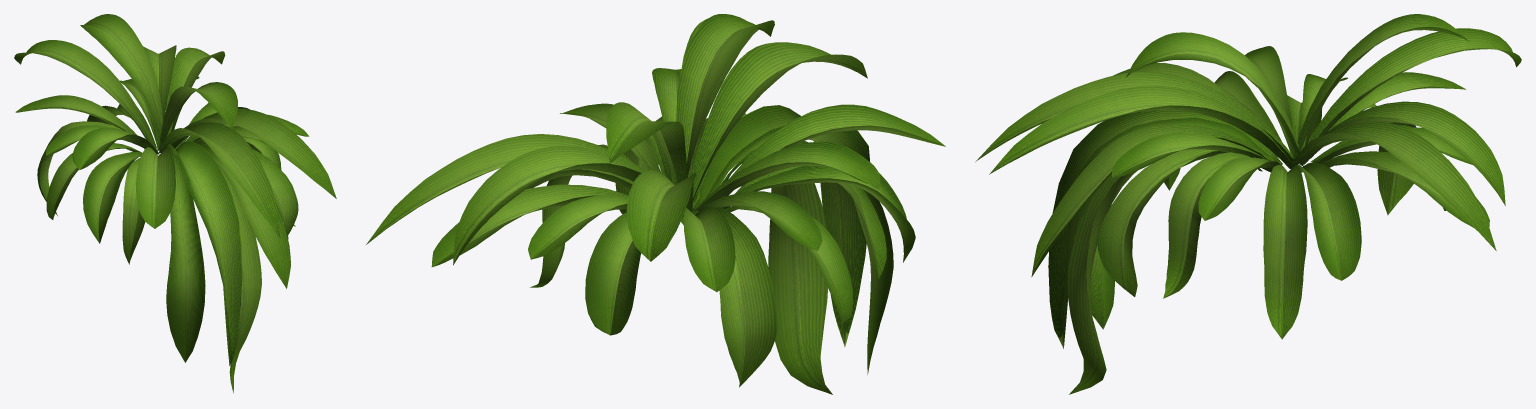
File: Plant_J.fbx
3 renders of one model, left to right at view 1: azimuth 30°, elevation 25°; view 2: azimuth 150°, elevation 25°; view 3: azimuth 270°, elevation 25°, orthographic. The views are drawn at different scales.
Parts seen in each view (by area): view 1: Plant_JJJ1, Plant_JJJ2; view 2: Plant_JJJ1, Plant_JJJ2; view 3: Plant_JJJ1, Plant_JJJ2.
Boxes of the visible parts, <box> form: Plant_JJJ1: <box>14,14,336,288</box>; Plant_JJJ2: <box>166,141,261,393</box>; Plant_JJJ1: <box>366,14,945,387</box>; Plant_JJJ2: <box>693,105,893,394</box>; Plant_JJJ1: <box>975,14,1521,339</box>; Plant_JJJ2: <box>1048,110,1282,394</box>.
Bounding box in the file's own units: 0.2364 × 0.2552 × 0.3353.
